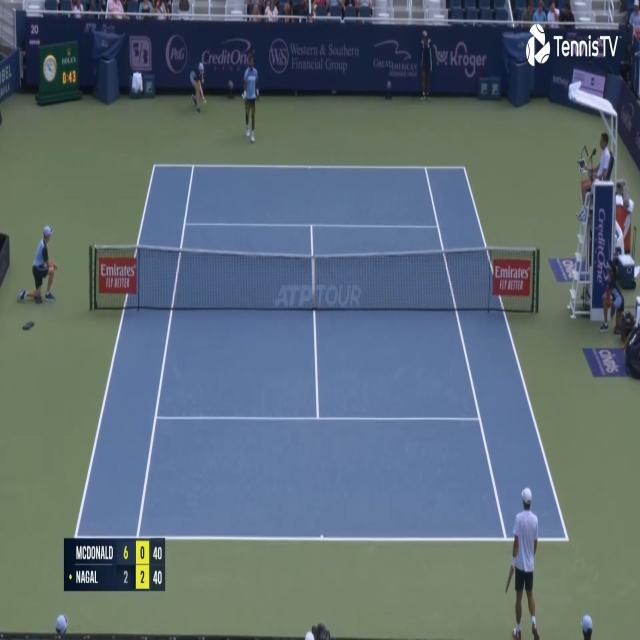tennis-player: (505, 486, 542, 640), (240, 52, 262, 144)
